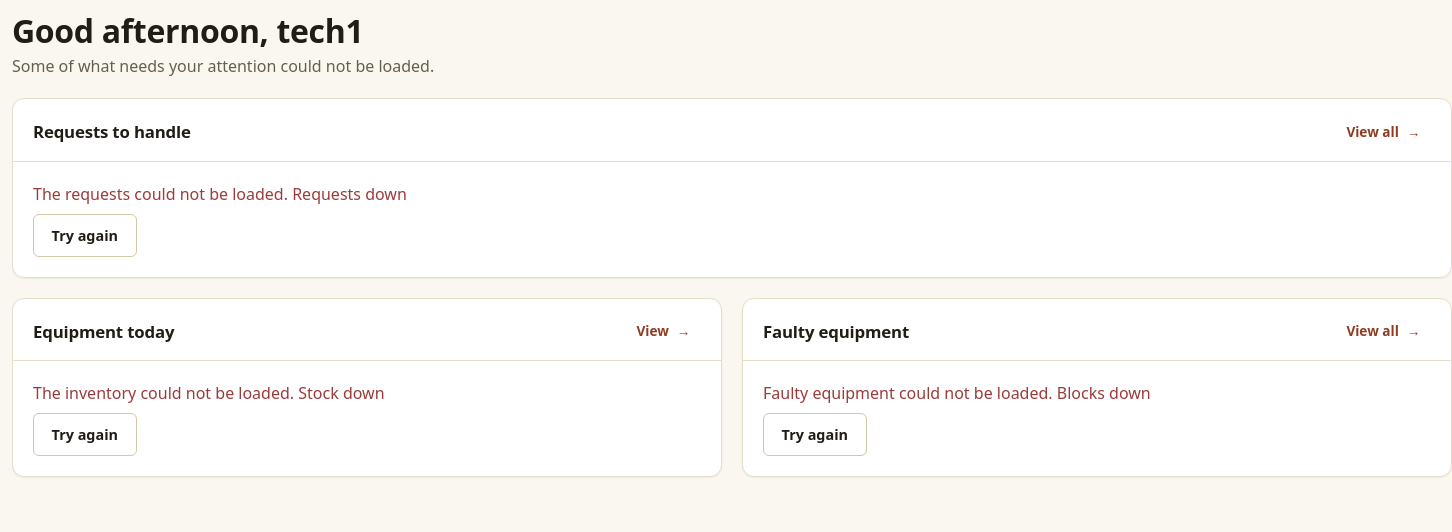
Test case: TS09 Technical Support front page › TS09 (failure): a block that cannot load says so, and Try again reloads only that block
Expected: the number of messages is 3, [33, 183, 407, 257]; [33, 382, 385, 456]; [763, 382, 1151, 456]
Expected: the message "The requests could not be loaded. Requests down Try again" is shown, [33, 183, 407, 257]
Click the button "Try again" below "The requests could not be loaded.": [85, 235] box [33, 214, 137, 257]
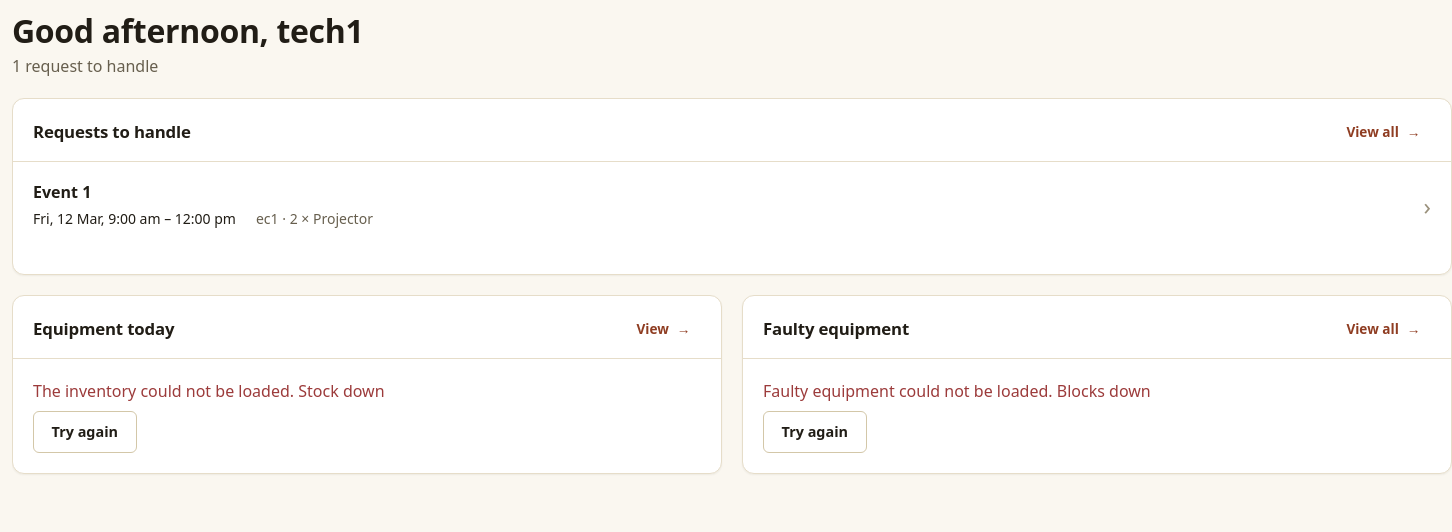
Result: the link "Event 1" is shown at [21, 170, 1443, 241]
Result: the number of messages is 2 at [33, 380, 385, 453]; [763, 380, 1151, 453]
Click the button "Try again" below "Faulty equipment could not be loaded.": [815, 432] box [763, 410, 867, 453]
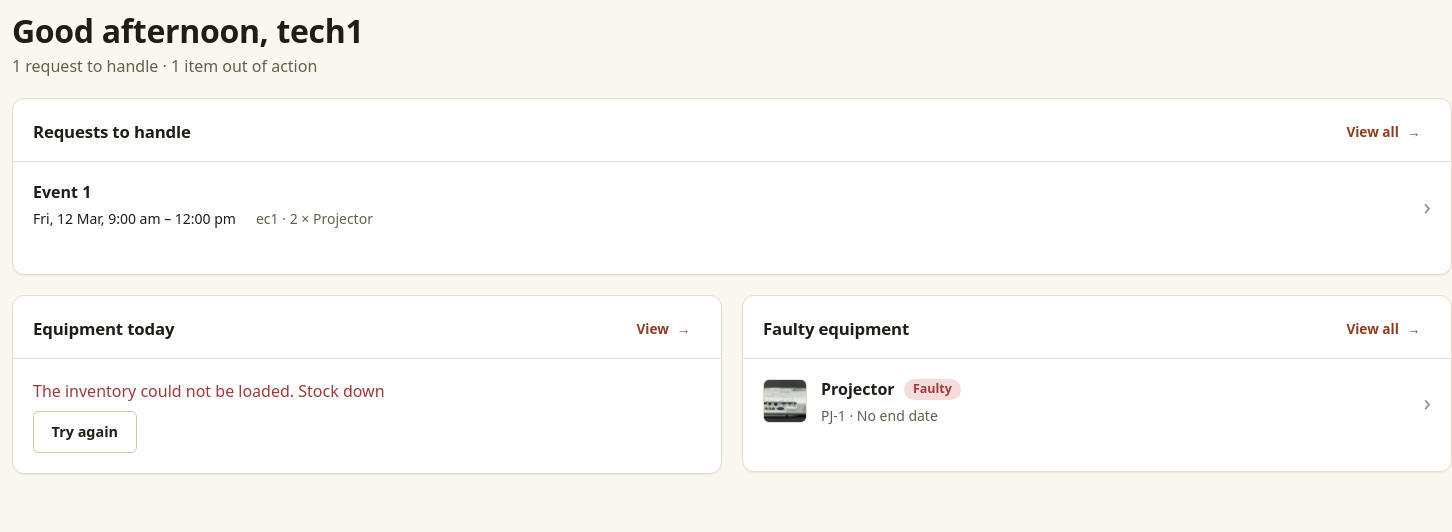
Result: the link "Projector Faulty PJ-1 · No end date ›" is shown at [751, 366, 1443, 438]
Result: the text "1 request to handle · 1 item out of action" is shown at [12, 55, 317, 77]
Click the button "Try again": [85, 432] box [33, 410, 137, 453]
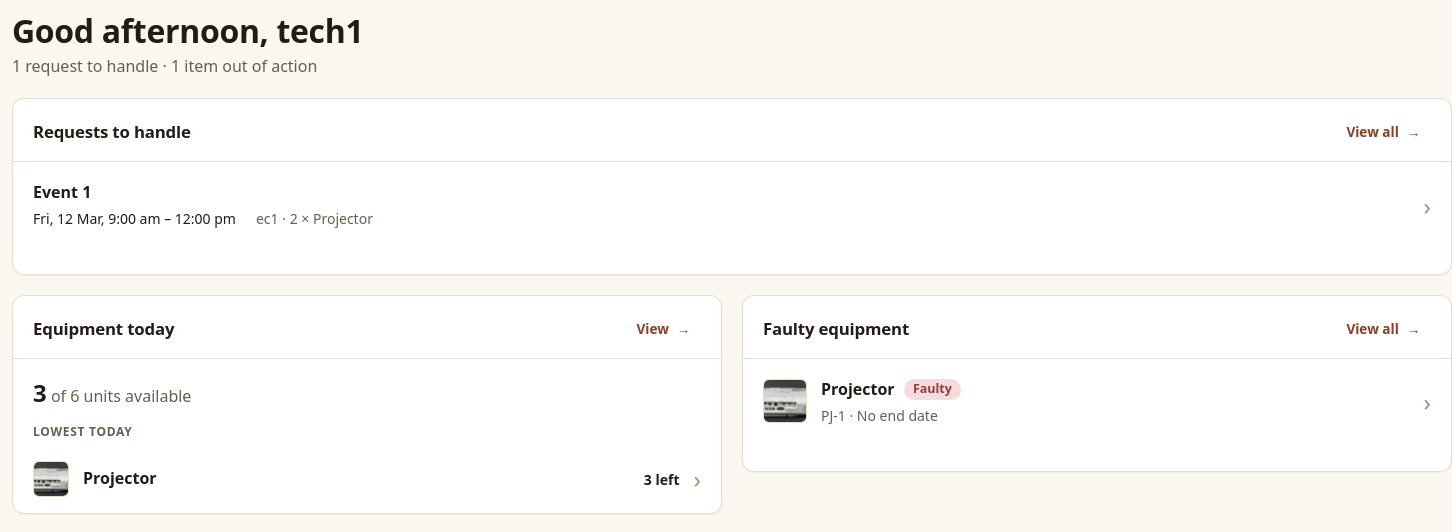
Result: the text "3 of 6 units available" is shown at [33, 376, 191, 408]
Result: the message "The inventory could not be loaded. Stock down Try again" is gone
